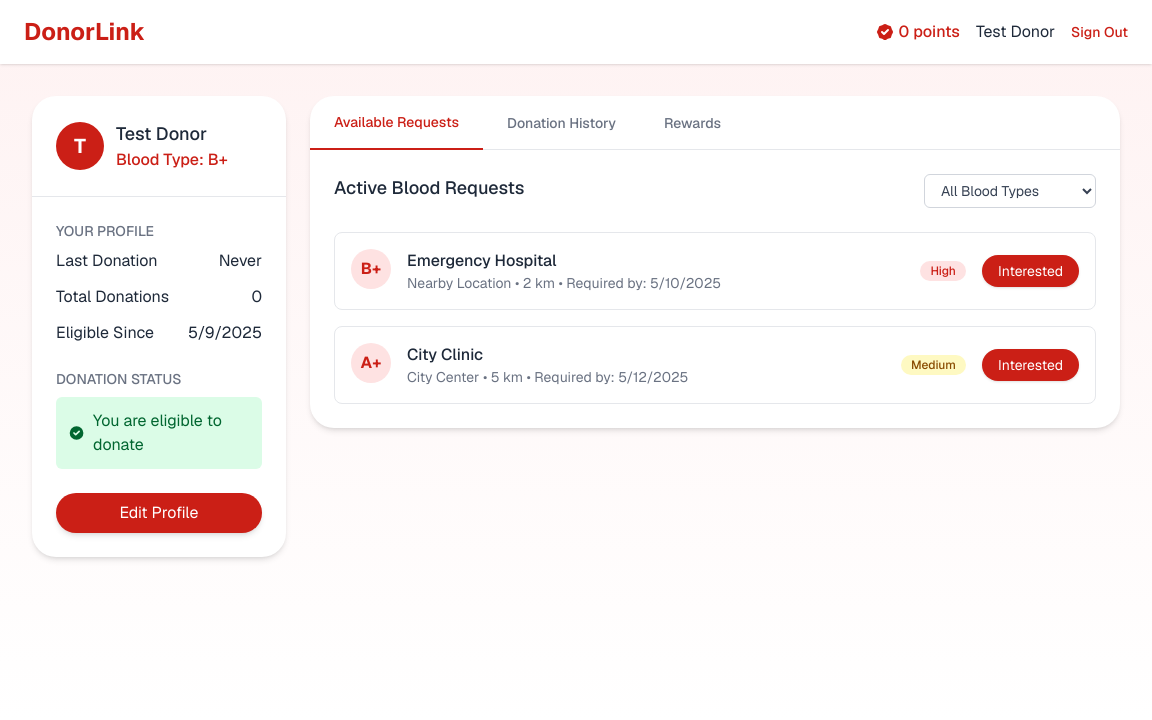
Test: Donor Registration and Matching Flow › Donor Registration Flow › donor can filter requests by compatibility
expect the heading "Emergency Hospital" is shown: met, box [407,250,556,271]
expect the heading "City Clinic" is shown: met, box [407,344,483,365]
Select "Compatible with B+" filter
Select "Compatible with B+" in the dropdown at (1010, 191), box [924,174,1096,208]
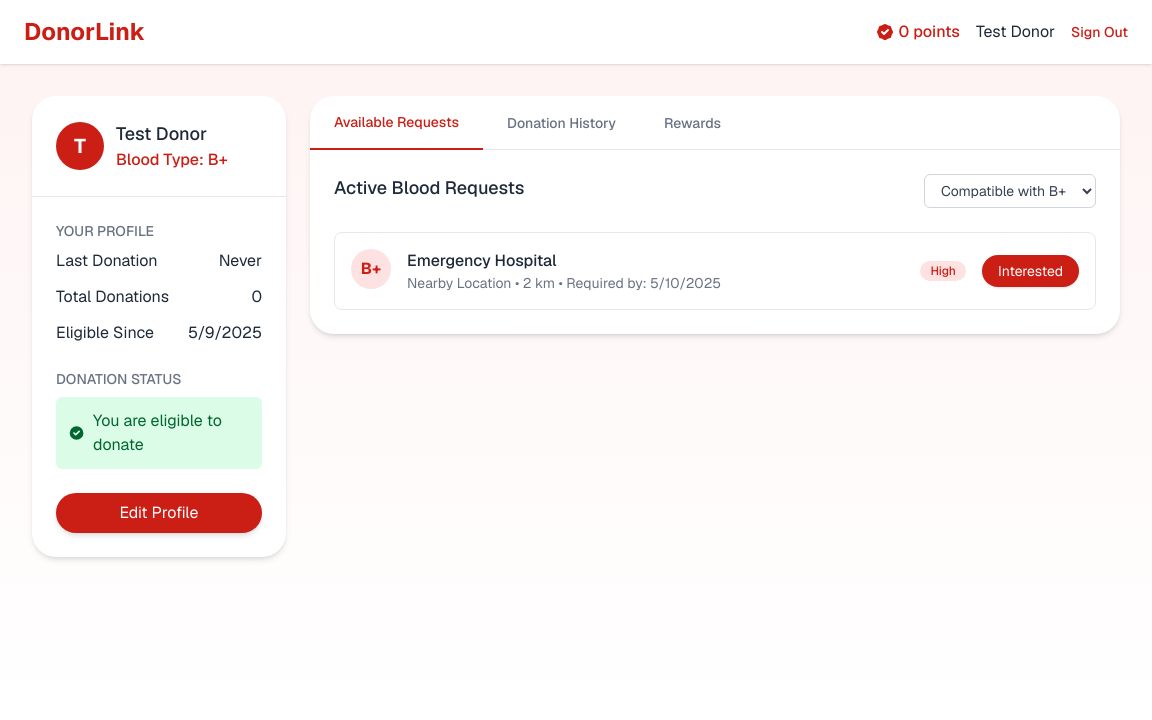
expect the heading "Emergency Hospital" is shown: met, box [407,250,556,271]
expect the heading "City Clinic" is gone: met
